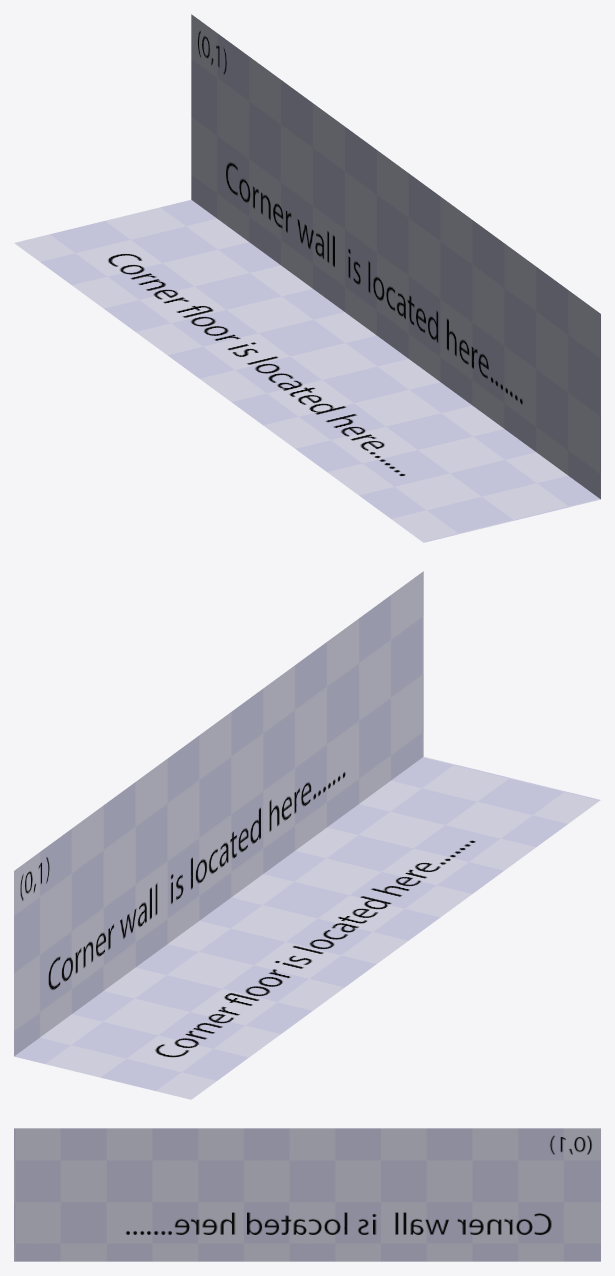
Rendered from wall_corner_hull.fbx.
The picture shows the model from 3 angles, top to bottom: view 1: azimuth 30°, elevation 25°; view 2: azimuth 150°, elevation 25°; view 3: azimuth 270°, elevation 25°; orthographic projection. The views are drawn at different scales.
Visible parts, largest first — view 1: wall_corner_hull; view 2: wall_corner_hull; view 3: wall_corner_hull.
Boxes of the visible parts, x1,y1,x2,y2 form: wall_corner_hull: (14,14,600,542); wall_corner_hull: (14,571,600,1099); wall_corner_hull: (14,1128,600,1261).
Size of the model in its own units: 100 by 100 by 400.
